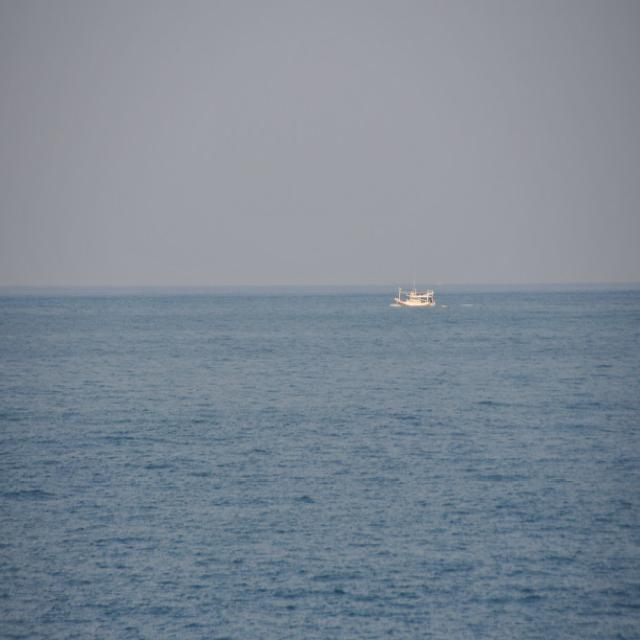houseboat: (392, 276, 437, 311)
